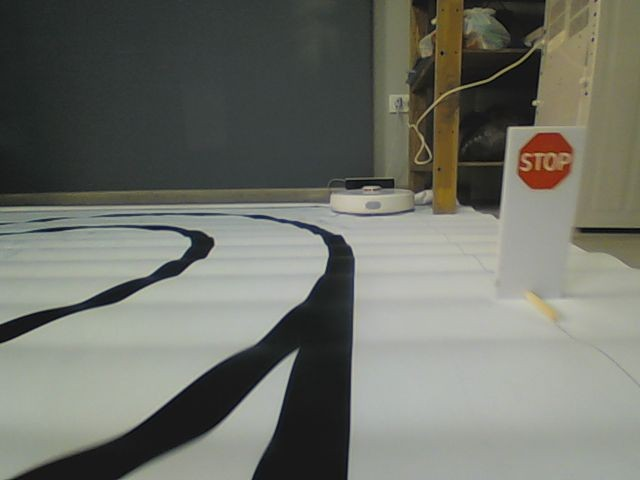Stop: (517, 132, 572, 188)
